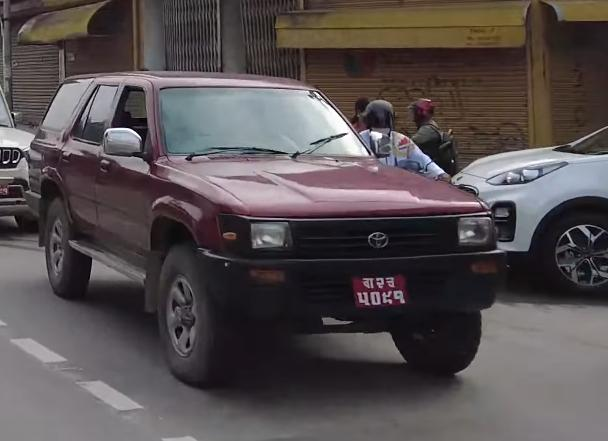SUV: (20, 63, 501, 389)
car: (453, 118, 608, 297)
